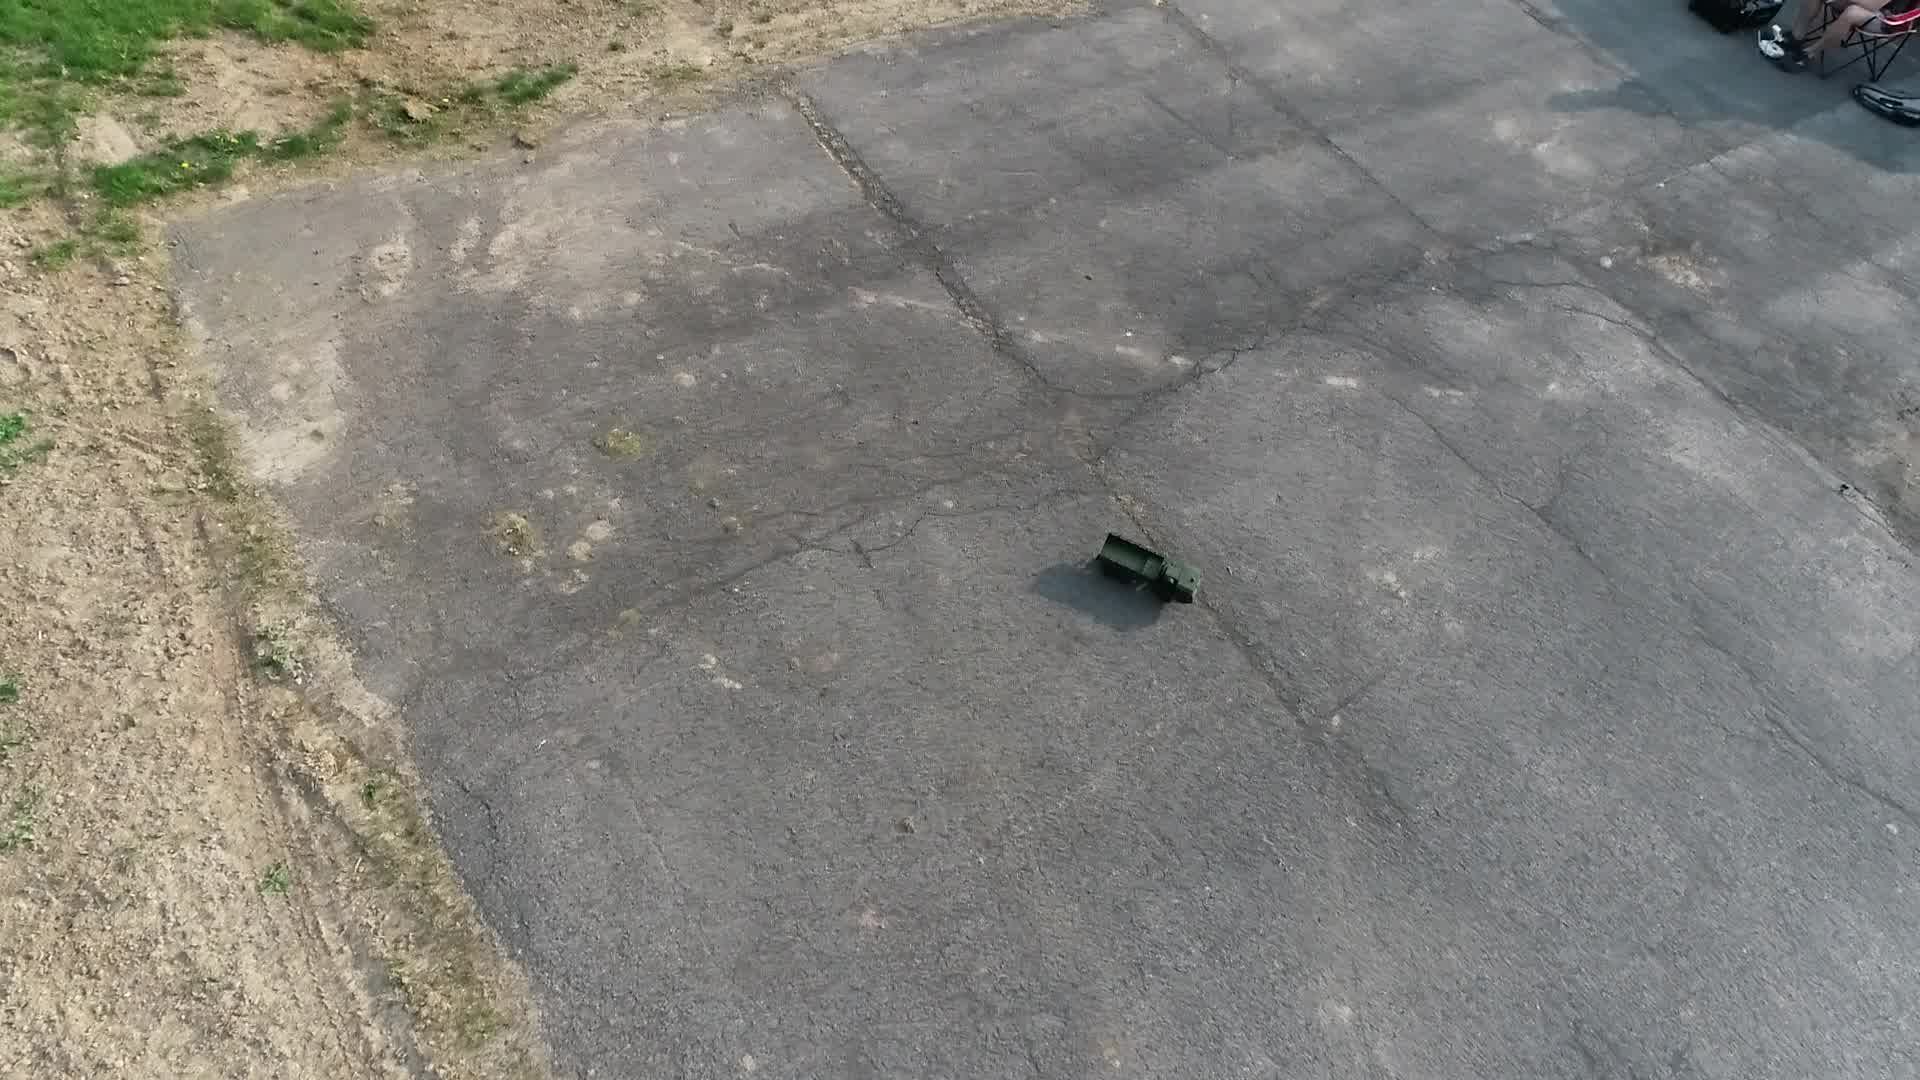transporter9: (1091, 530, 1208, 608)
